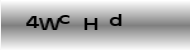4: (24, 15, 40, 29)
H: (83, 17, 99, 32)
W: (37, 17, 61, 32)
c: (58, 14, 71, 25)
d: (109, 13, 122, 27)
